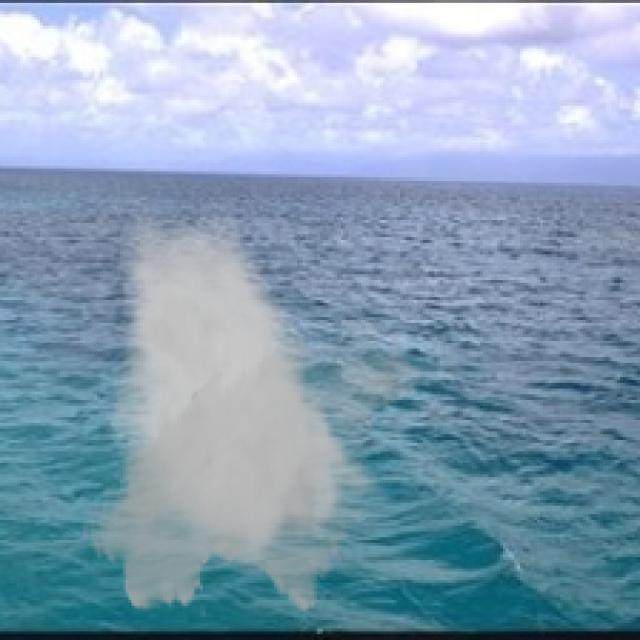smoke: (80, 197, 423, 623)
